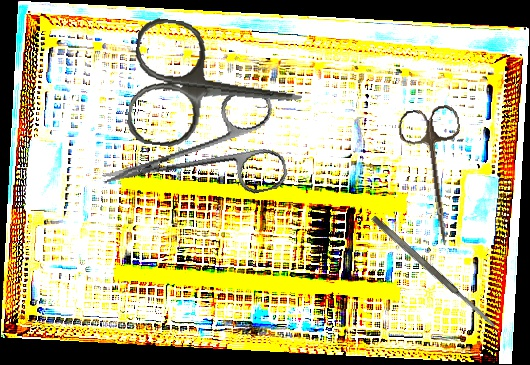Iris Scissors: (90, 83, 291, 227), (124, 16, 310, 162), (396, 103, 478, 250)
Spatula Surgical: (370, 214, 498, 331)
